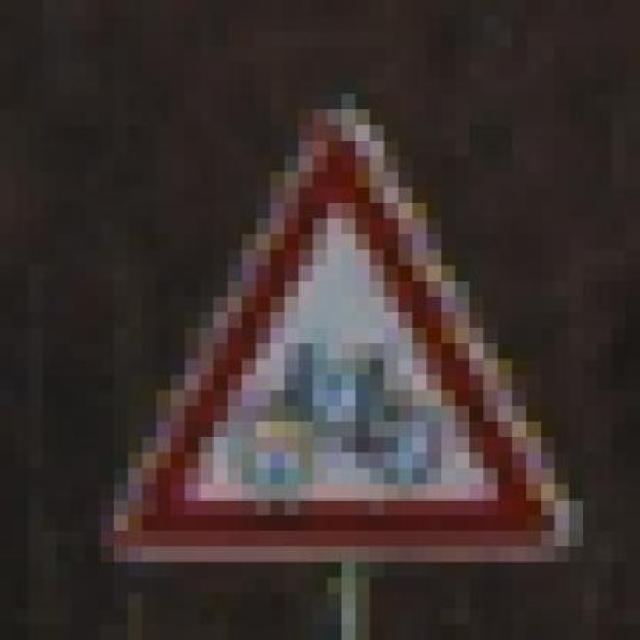CYCLE ROUTE AHEAD WARNING: (85, 78, 598, 578)
